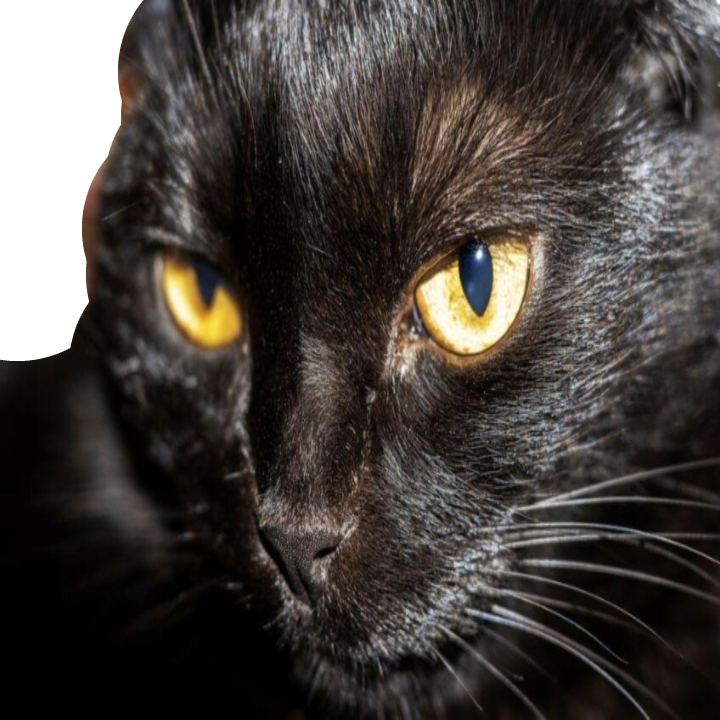Cat: (0, 0, 719, 719)
